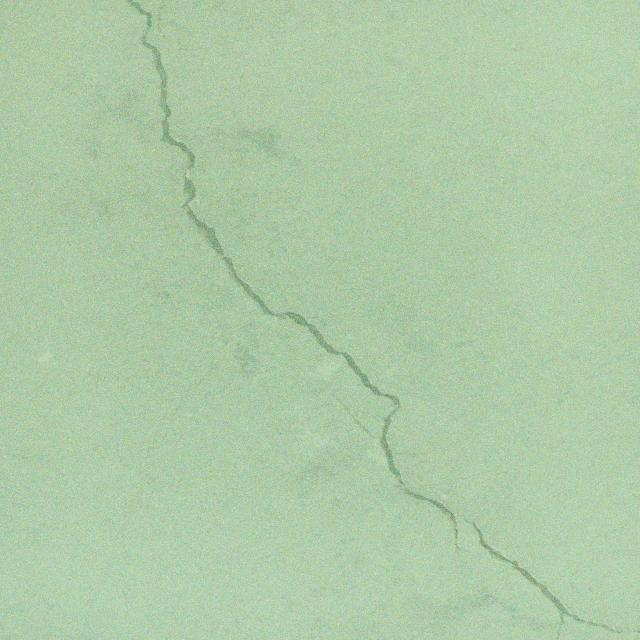crack: (124, 0, 464, 551), (462, 515, 640, 640), (156, 1, 174, 56)
